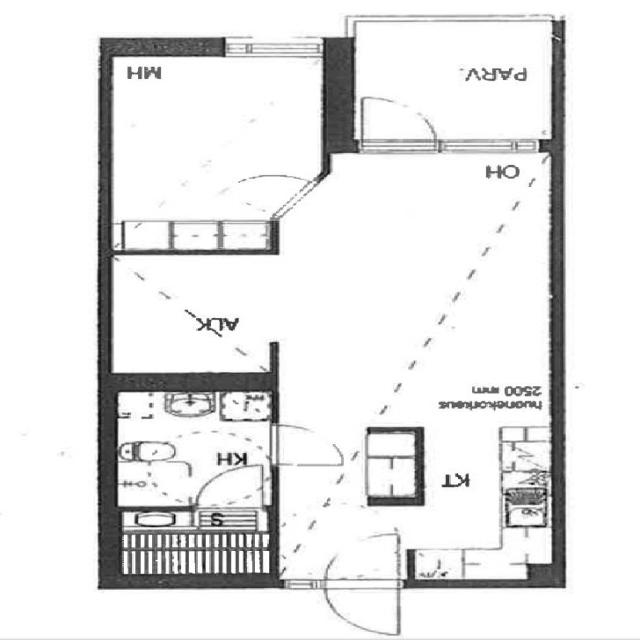door: (317, 540, 409, 638), (352, 95, 443, 158), (211, 171, 294, 227), (265, 422, 349, 472), (190, 464, 268, 509), (347, 530, 405, 557)
window: (213, 33, 329, 60), (436, 134, 545, 158)
zone: (104, 52, 323, 251), (109, 382, 278, 510), (109, 508, 273, 580)
